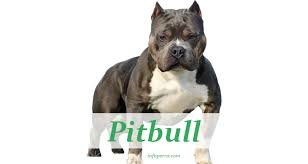Perro Pitbull: (127, 2, 225, 113)
